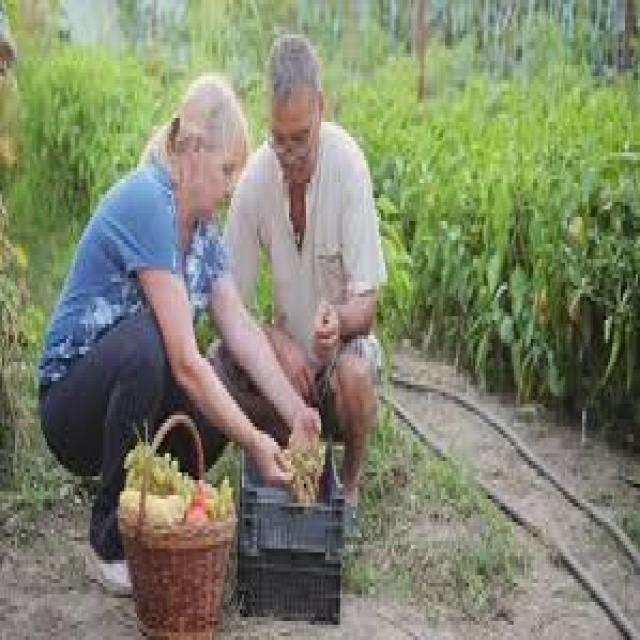basket: (239, 448, 346, 625), (120, 518, 238, 640)
